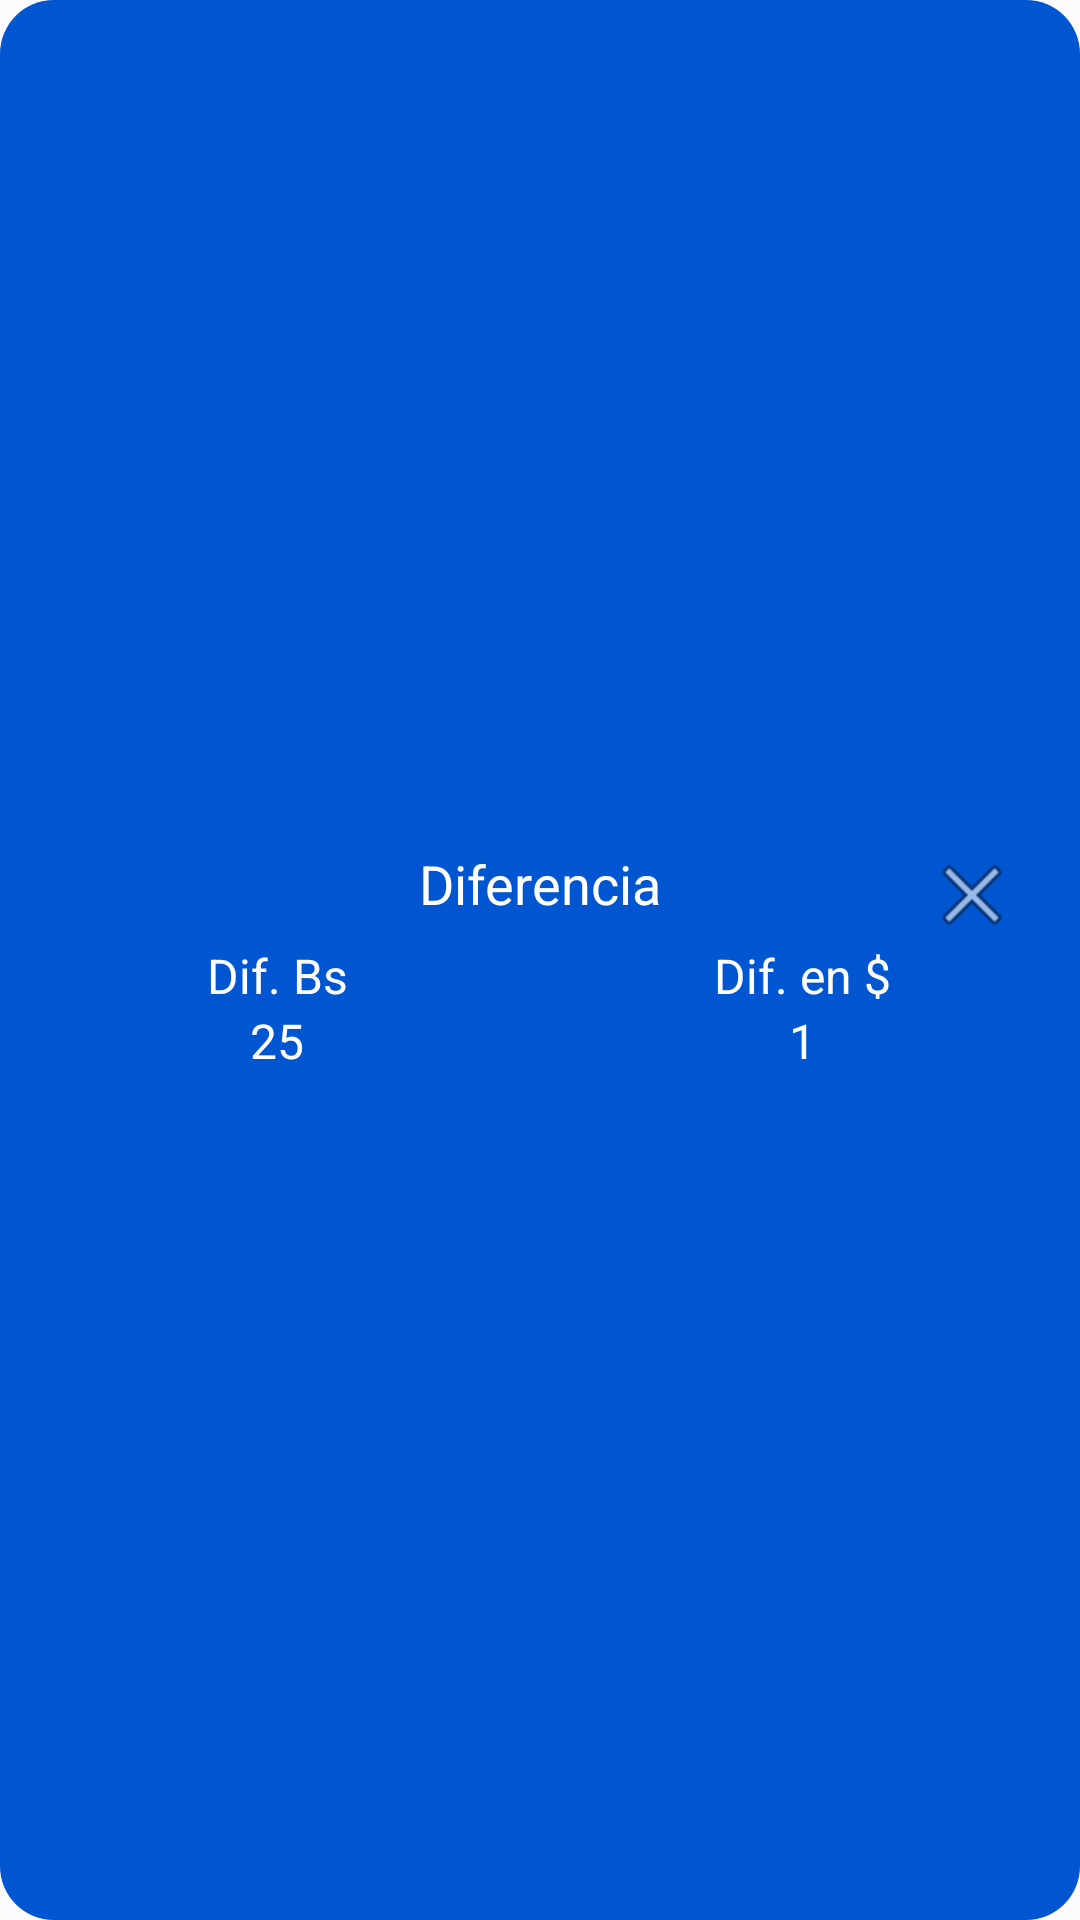

Icon click points for this 1080px×1920px phone screenshot, format [x,y]:
close clear cancel: [972,895]
